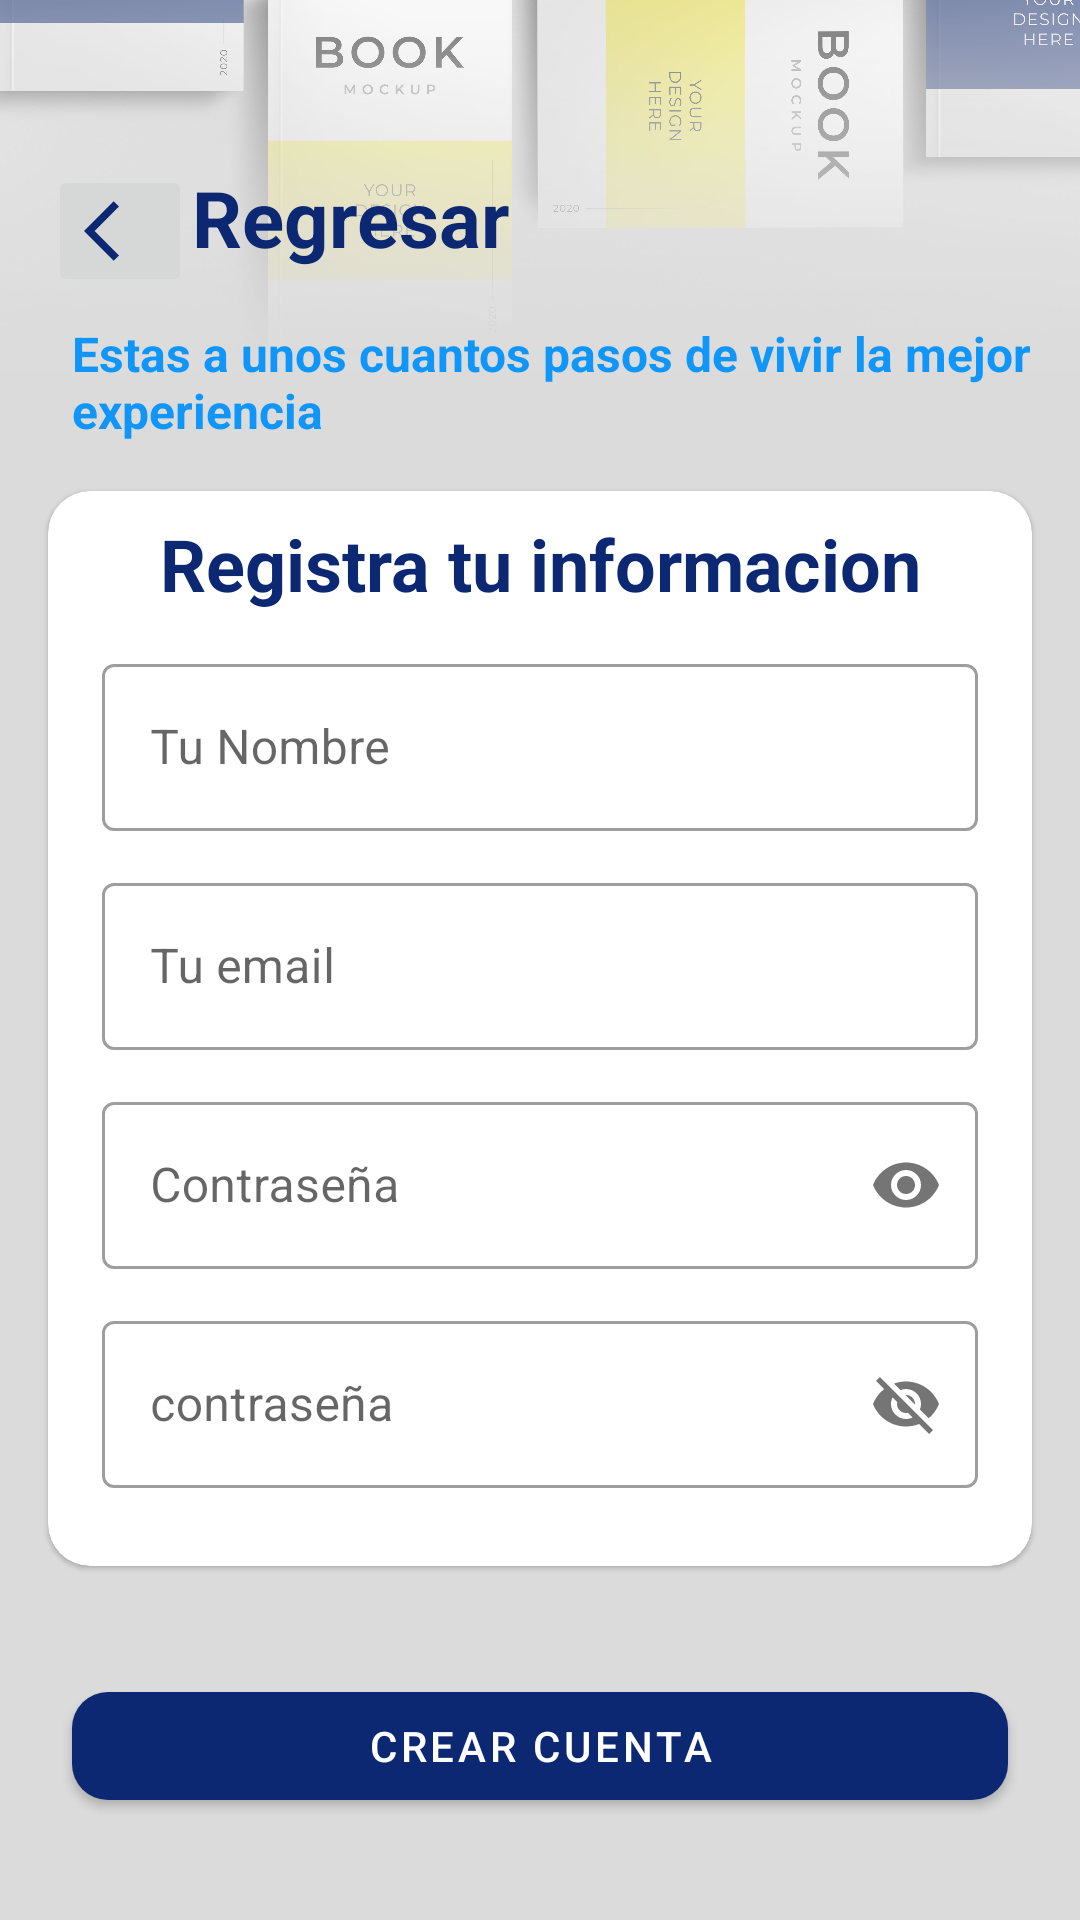

Where icons sit on this 1080w x 1920h app screen, as (x1, y1, x2, y2):
arrow back: (60, 183, 180, 279)
